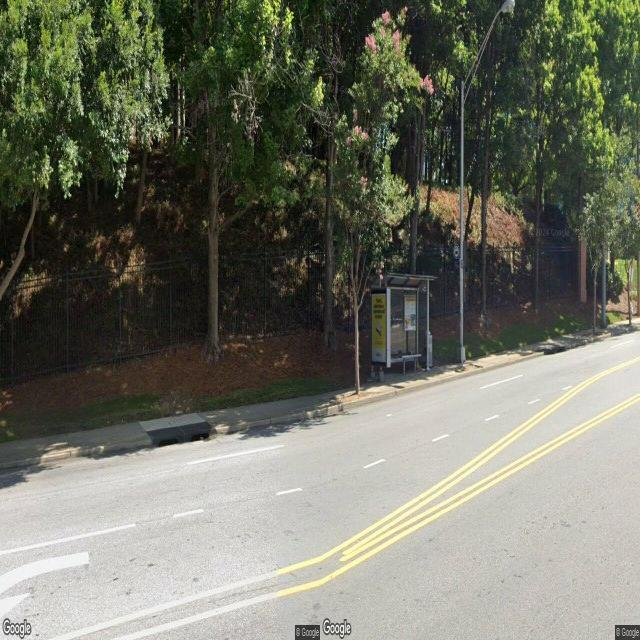seating: (396, 354, 422, 376)
shelter: (362, 274, 434, 378)
trash_can: (426, 334, 434, 368)
